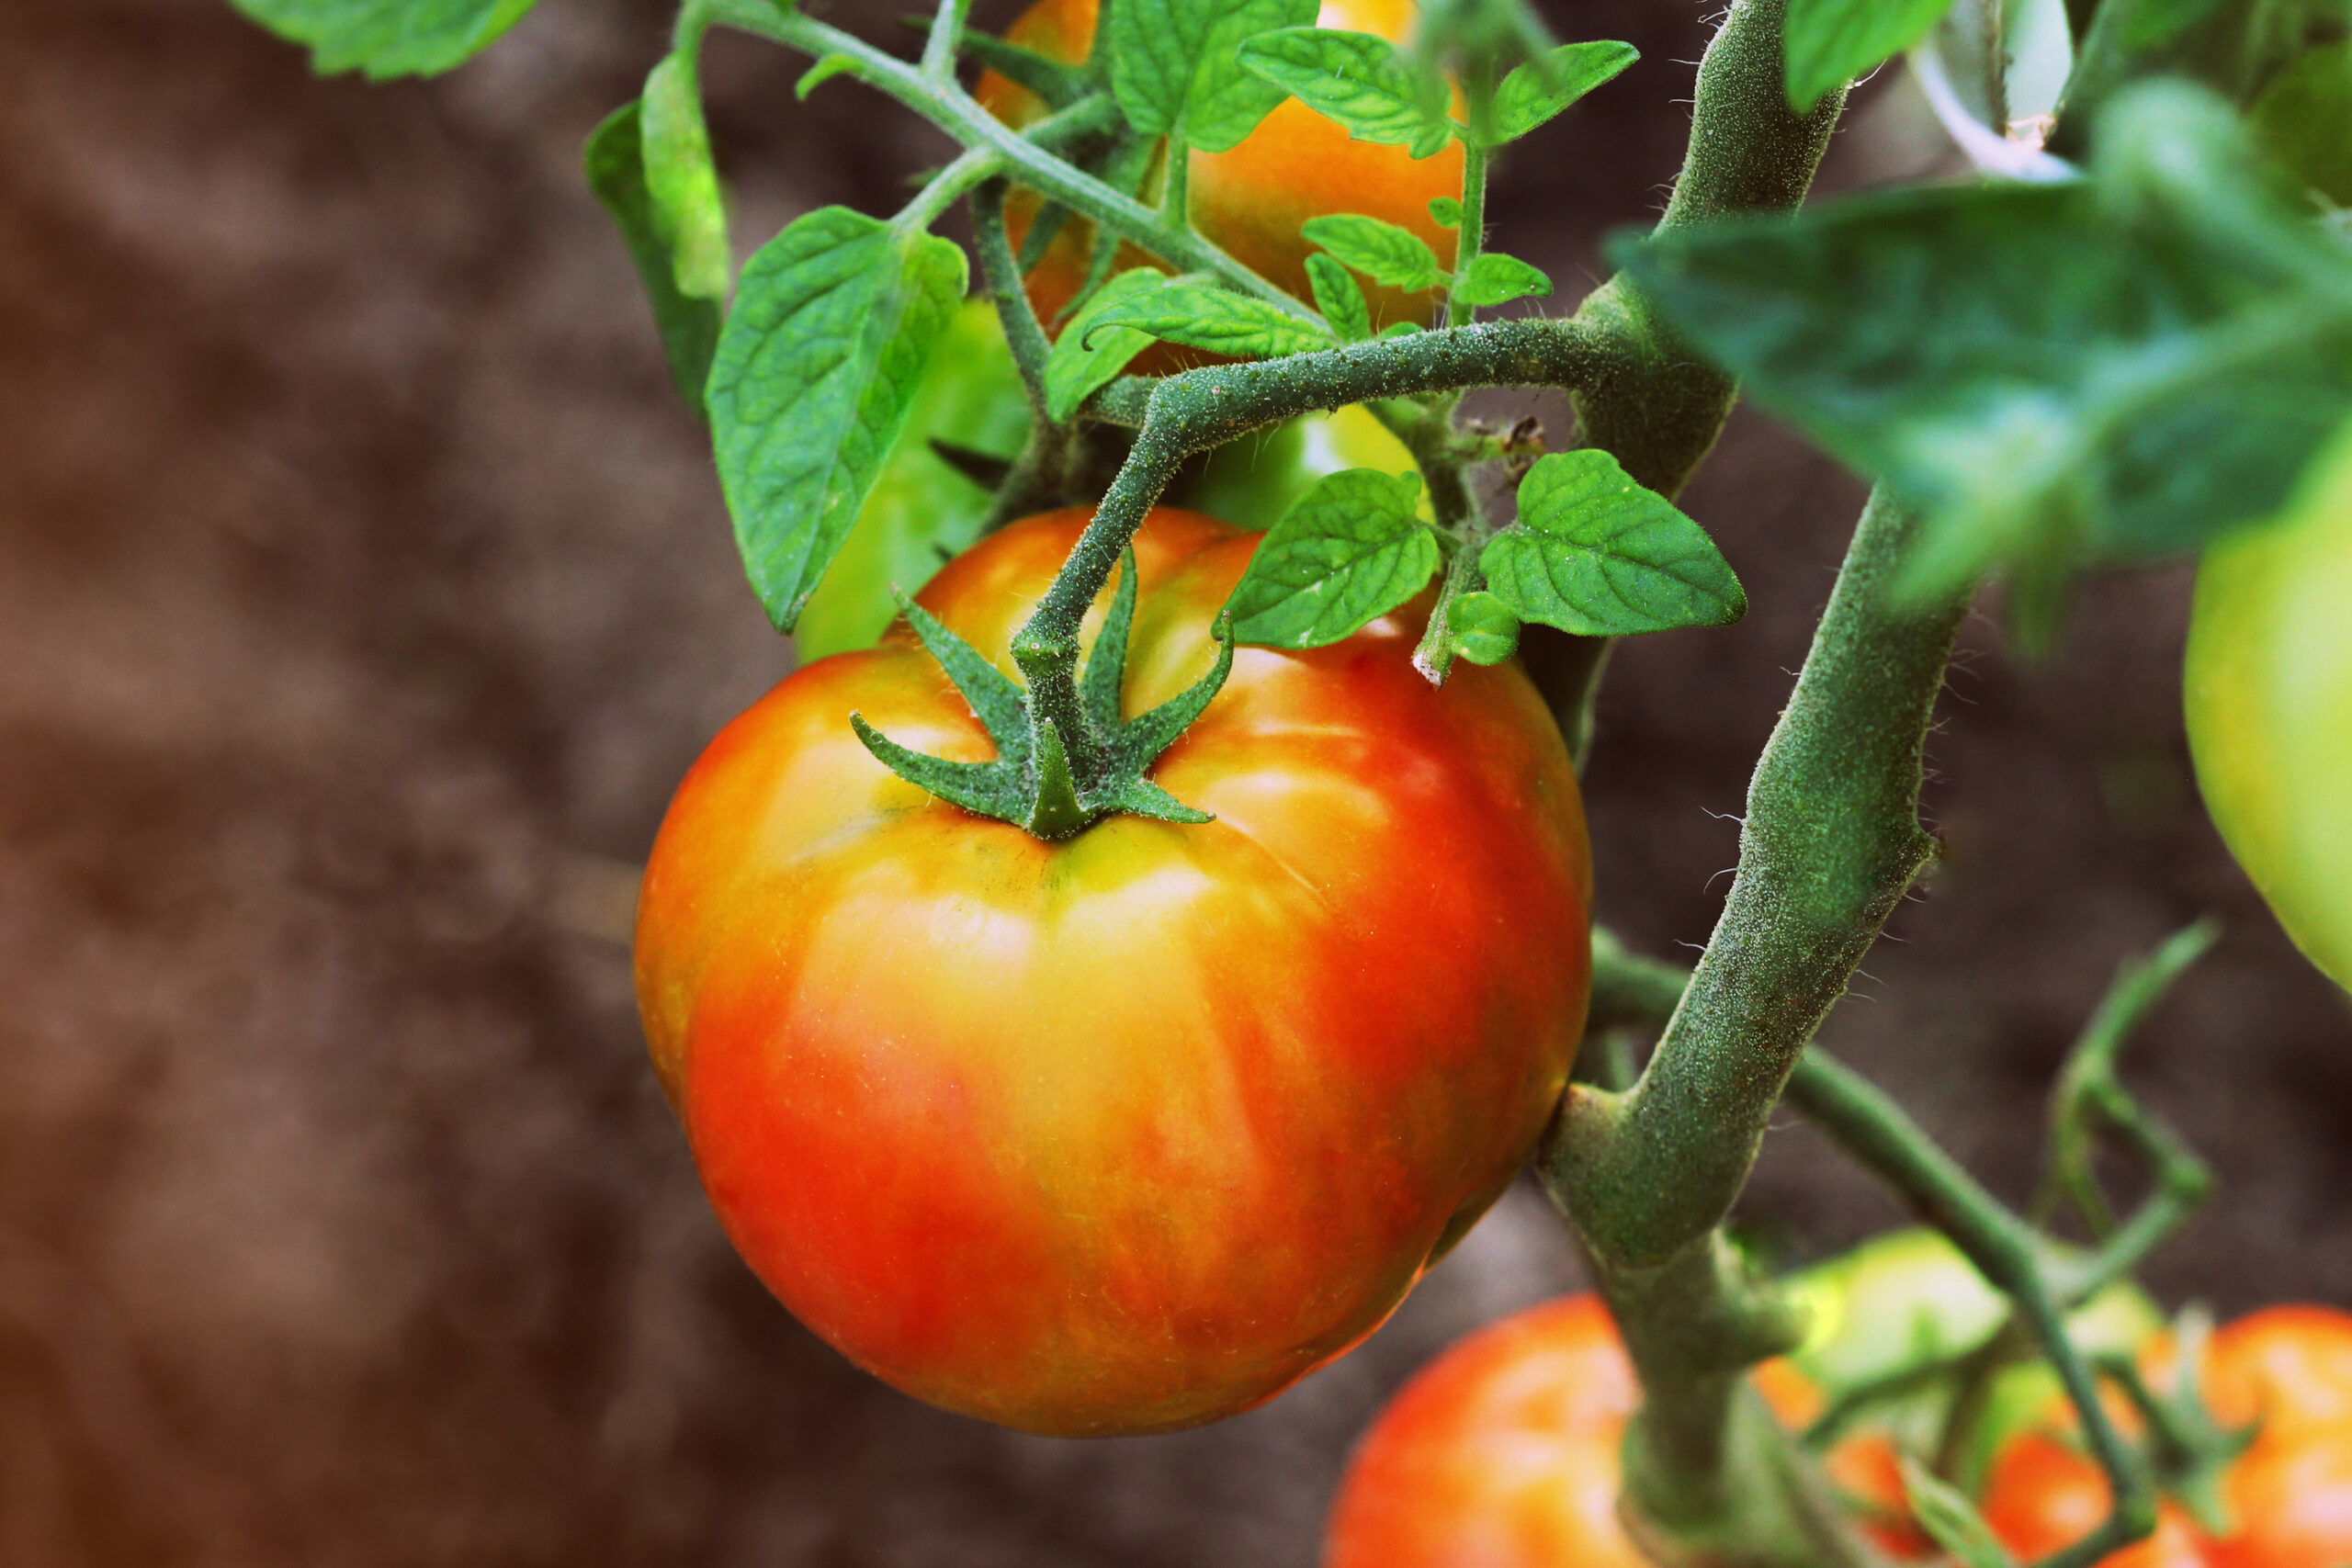tomato: (626, 415, 1626, 1372)
